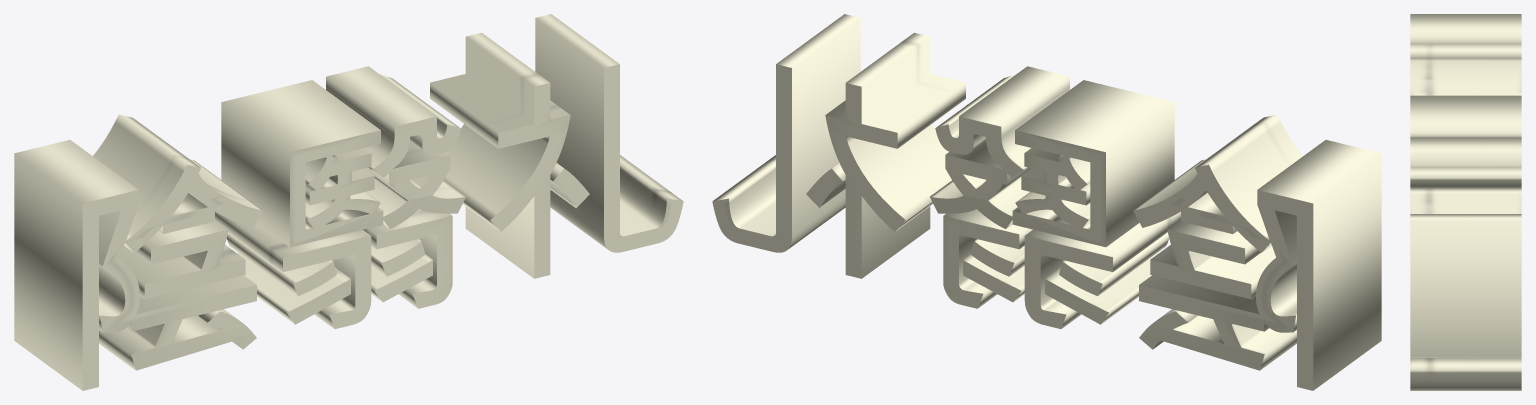
File: finalshadow.glb
3 views of the same model, side by side, from view 1: azimuth 30°, elevation 25°; view 2: azimuth 150°, elevation 25°; view 3: azimuth 270°, elevation 25° (orthographic). The views are drawn at different scales.
Parts seen in each view (by area): view 1: Text; view 2: Text; view 3: Text.
Boxes of the visible parts, box(x1,y1,x2,y2) form: Text: box(14, 14, 683, 390); Text: box(712, 14, 1381, 390); Text: box(1410, 14, 1521, 390).
Bounding box in the file's own units: 2.03 × 0.6469 × 0.4.
1 material, 1 textured.
